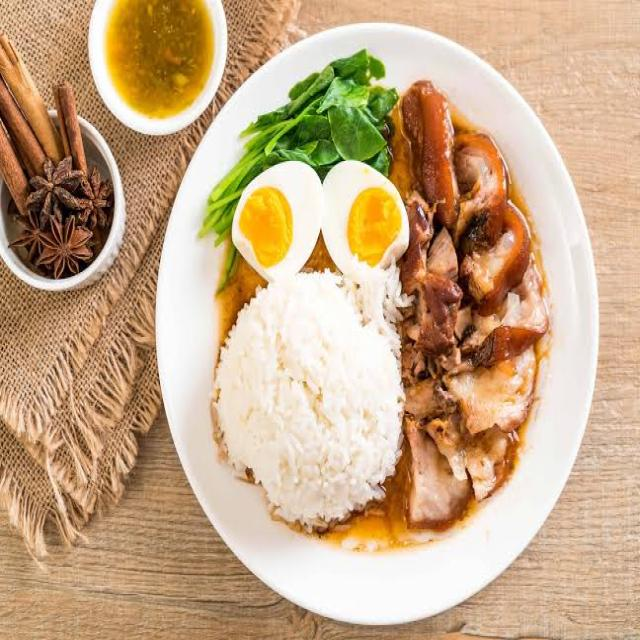carb: (233, 296, 404, 520)
meat: (400, 77, 548, 563)
stewed pork leg on rice: (217, 89, 552, 532)
vegetable: (273, 31, 397, 166)
